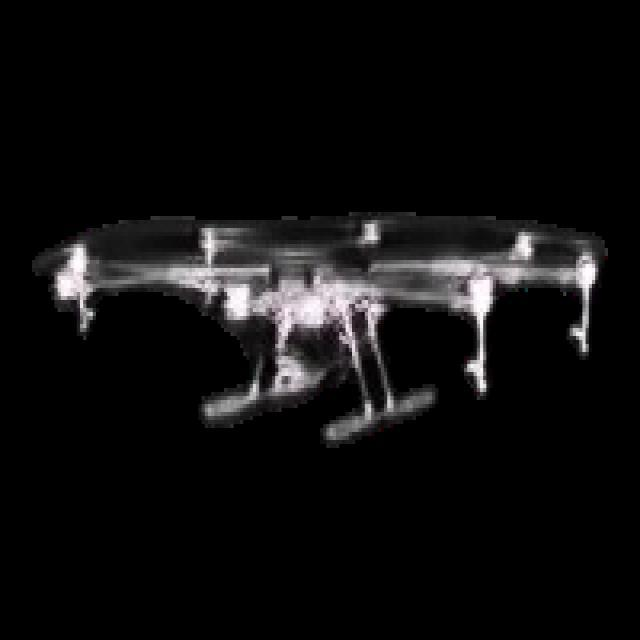drone: (43, 212, 612, 446)
